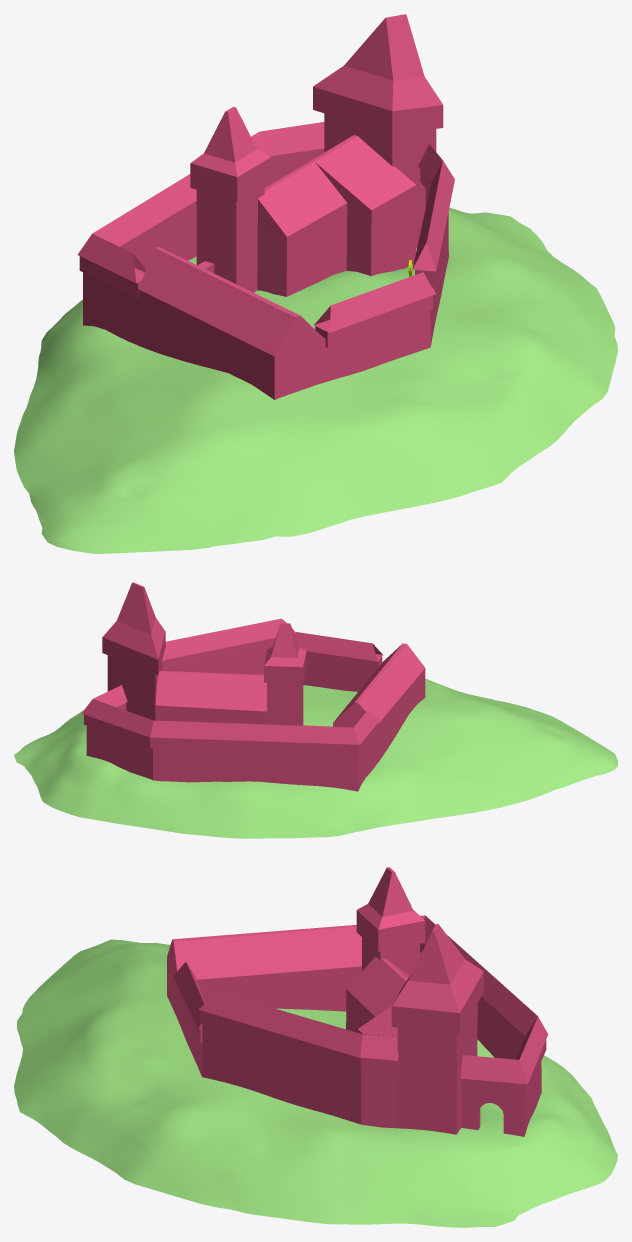
Rendered from novy_hradek_history.glb.
3 views of the same model, one above another, from view 1: azimuth 30°, elevation 25°; view 2: azimuth 150°, elevation 25°; view 3: azimuth 270°, elevation 25° (orthographic). The views are drawn at different scales.
Parts seen in each view (by area): view 1: Grid_Grid.003; view 2: Grid_Grid.003; view 3: Grid_Grid.003.
Boxes of the visible parts, <box> form: Grid_Grid.003: <box>14,14,617,553</box>; Grid_Grid.003: <box>14,582,617,838</box>; Grid_Grid.003: <box>14,867,617,1227</box>.
Bounding box in the file's own units: 109 × 41.9 × 94.13.
